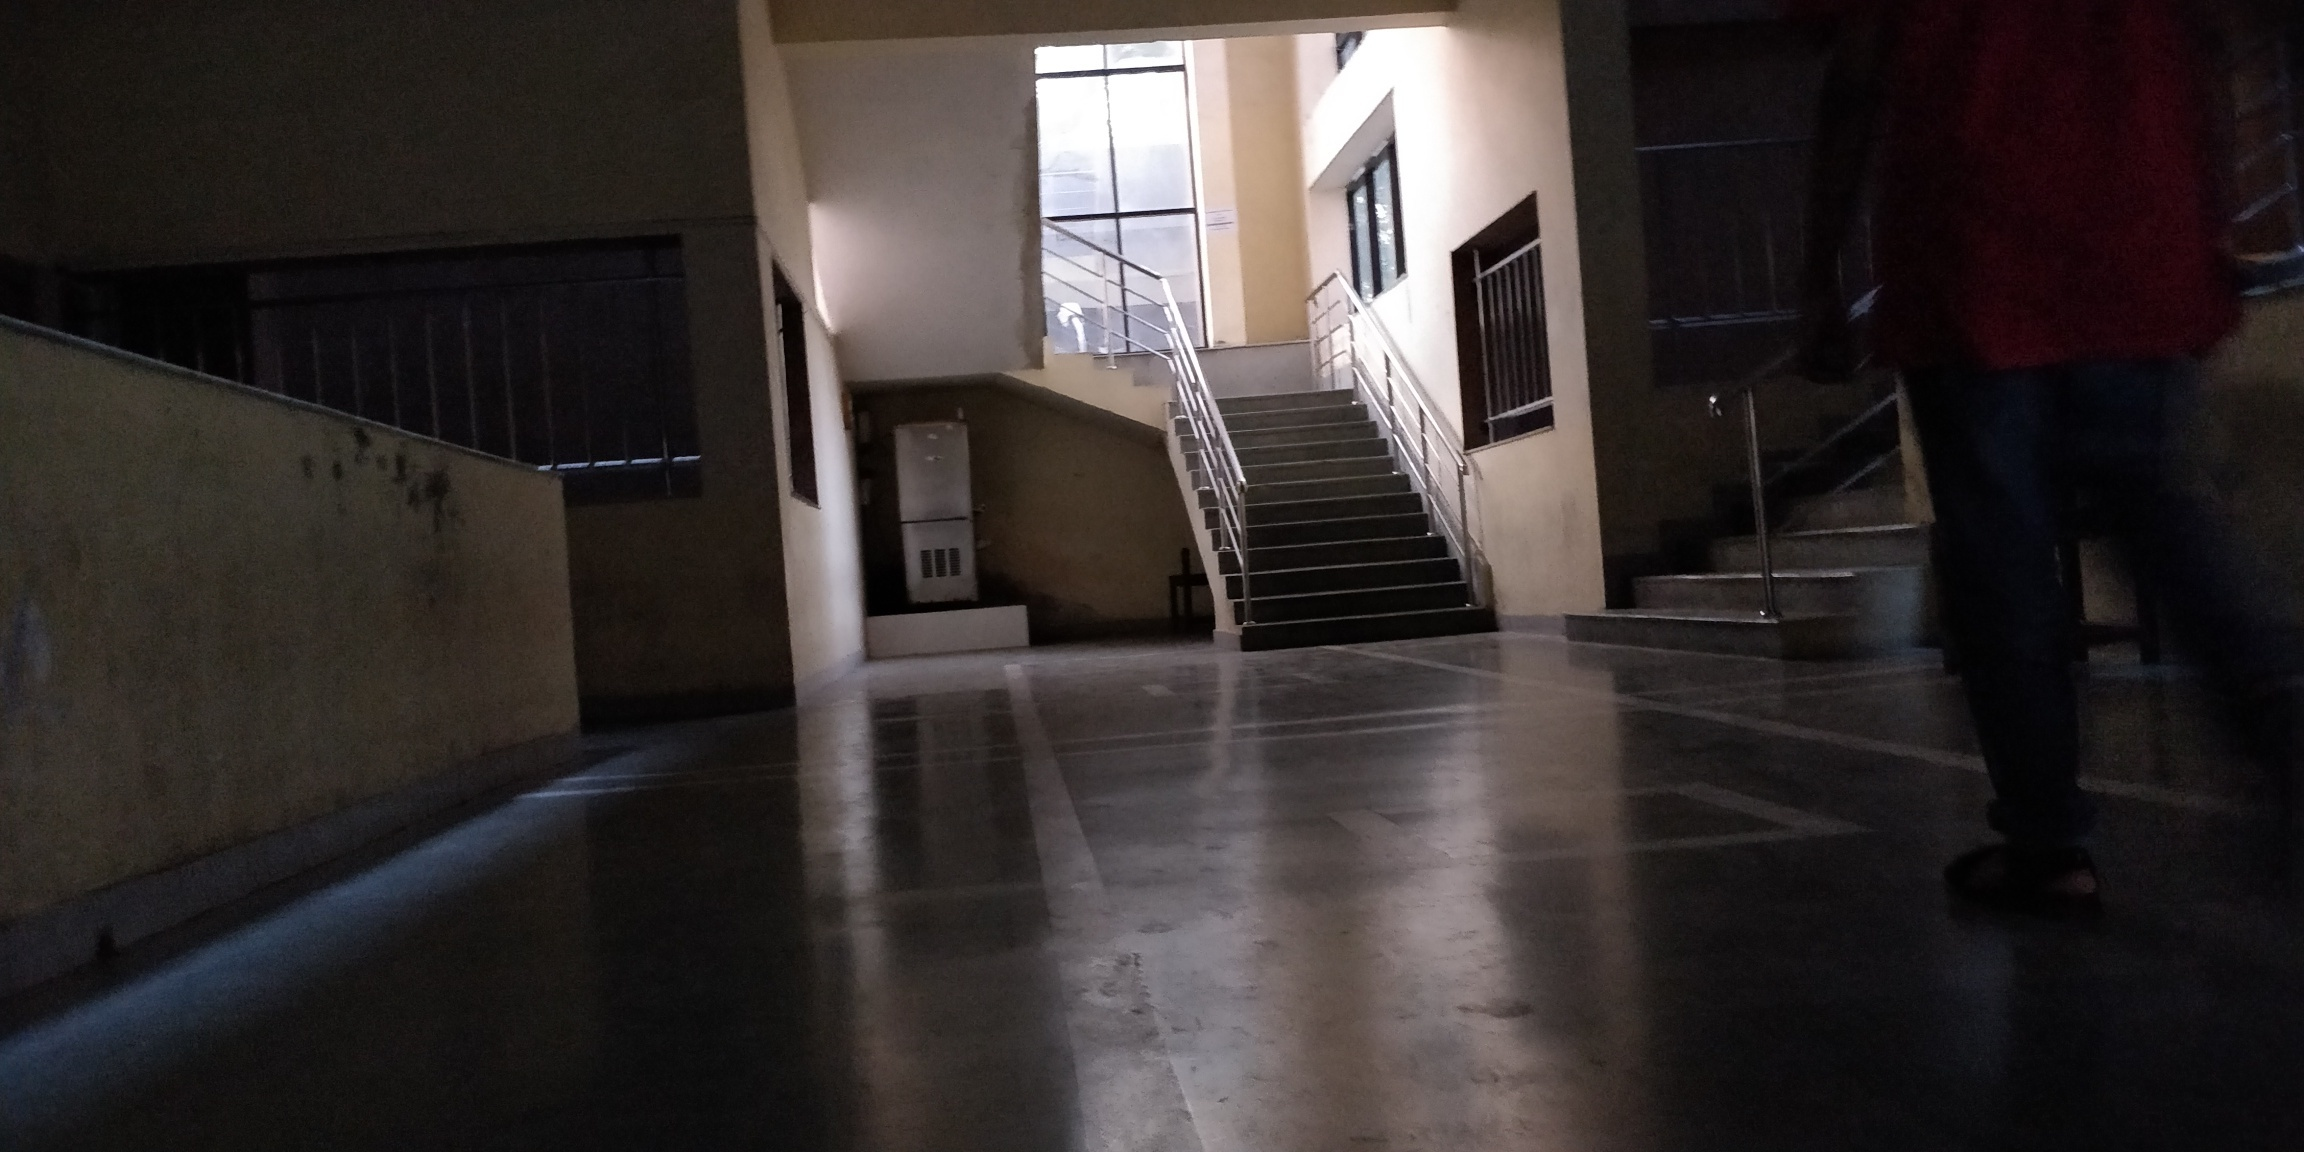stairs_up: (1195, 398, 1515, 641)
